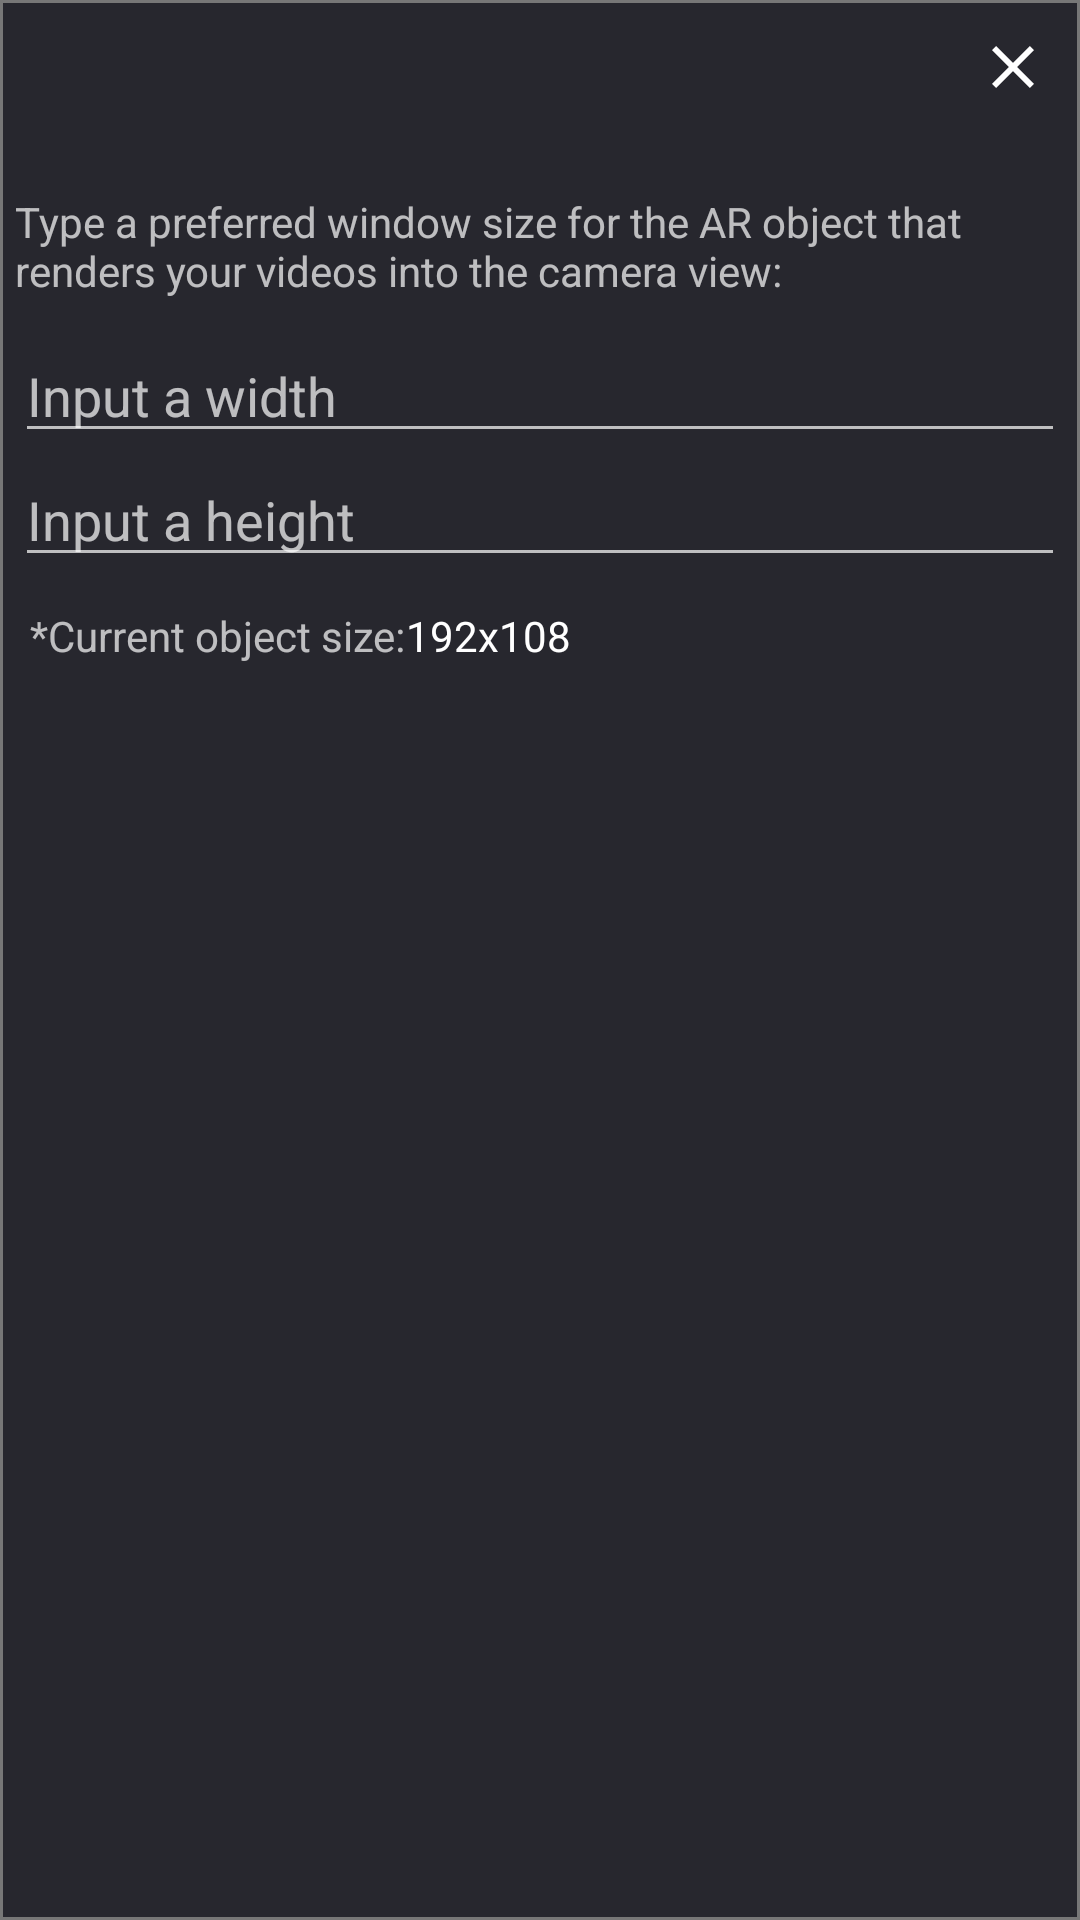

Locate icon controls on the screen. Image size 1080x1920, boxes as (x1, y1, x2, y2).
Exit view: (992, 46, 1034, 88)
